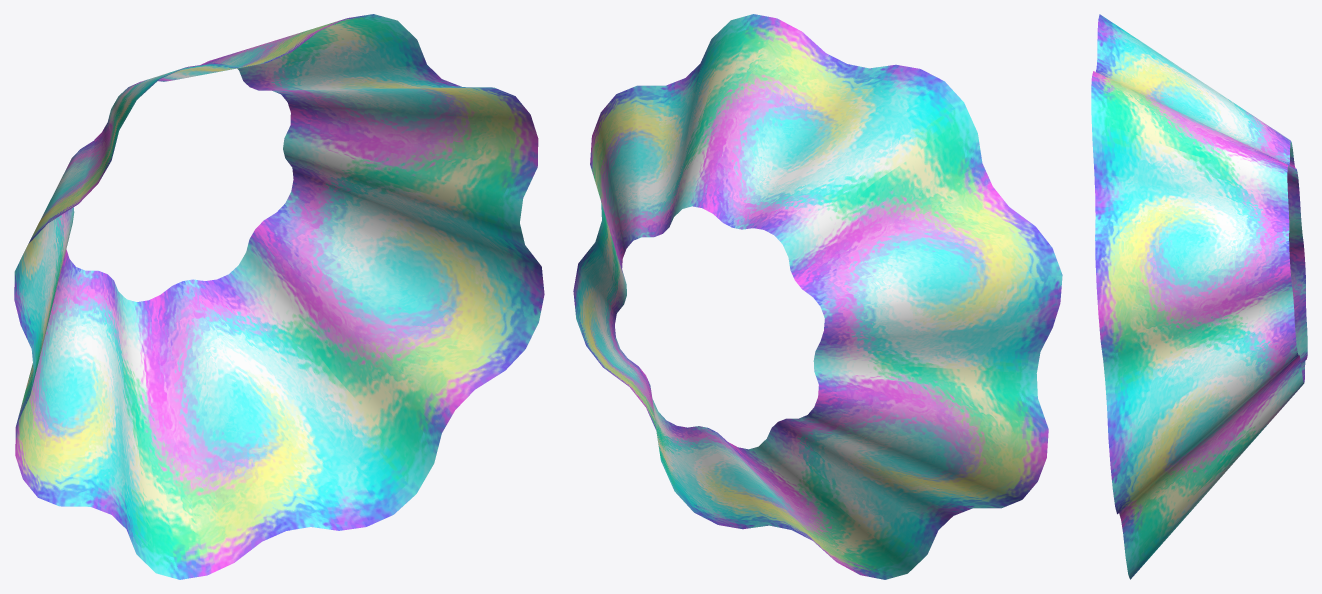
Rendered from skyring2.fbx.
3 renders of one model, left to right at view 1: azimuth 30°, elevation 25°; view 2: azimuth 150°, elevation 25°; view 3: azimuth 270°, elevation 25°, orthographic. The views are drawn at different scales.
Parts seen in each view (by area): view 1: Fountain_of__Dreams.004; view 2: Fountain_of__Dreams.004; view 3: Fountain_of__Dreams.004.
Part boxes in pixels (x1,y1,x2,y2): Fountain_of__Dreams.004: (14,14,544,579); Fountain_of__Dreams.004: (573,14,1062,579); Fountain_of__Dreams.004: (1091,14,1307,579).
Size of the model in its own units: 3876 by 3858 by 1542.
Materials: 1 (1 with a texture image).
